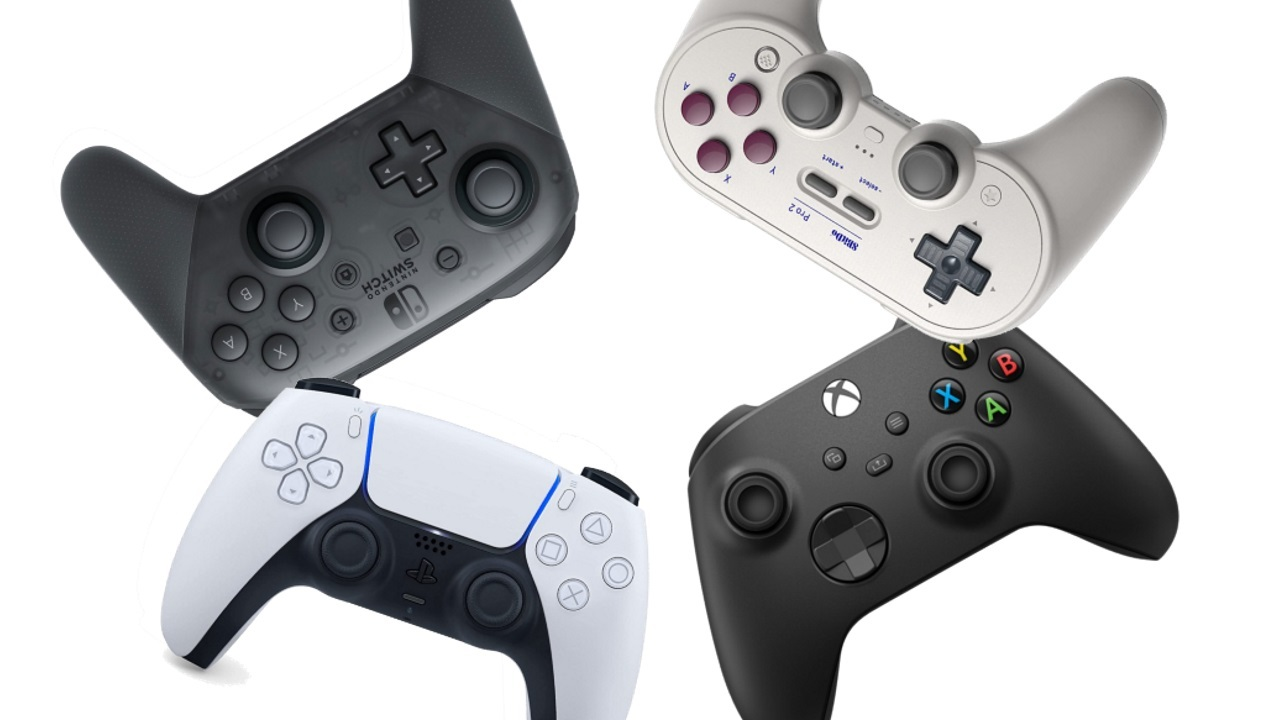controller: (61, 1, 580, 419), (686, 314, 1182, 719), (654, 1, 1170, 342), (160, 378, 650, 720)
